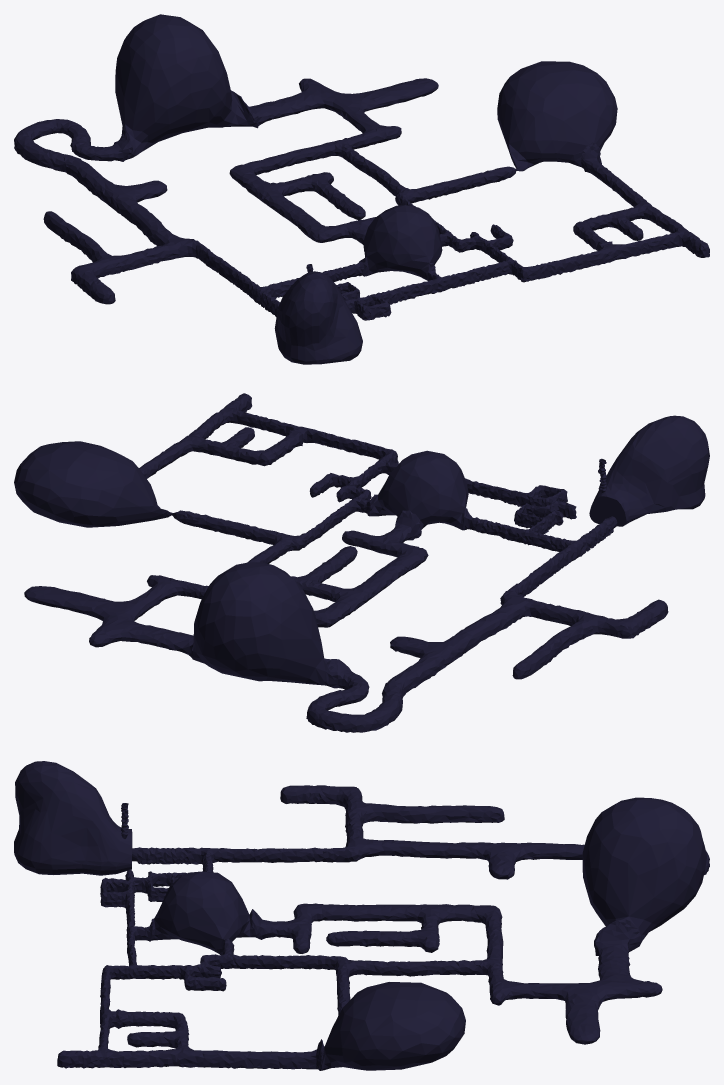
The model's file is cueva.glb.
3 views of the same model, one above another, from view 1: azimuth 30°, elevation 25°; view 2: azimuth 150°, elevation 25°; view 3: azimuth 270°, elevation 25° (orthographic). The views are drawn at different scales.
Visible parts, largest first — view 1: cueva-col; view 2: cueva-col; view 3: cueva-col.
Part boxes in pixels (x1,y1,x2,y2): cueva-col: (14,14,709,364); cueva-col: (14,393,709,732); cueva-col: (14,761,709,1070).
Size of the model in its own units: 758 by 144 by 743.
